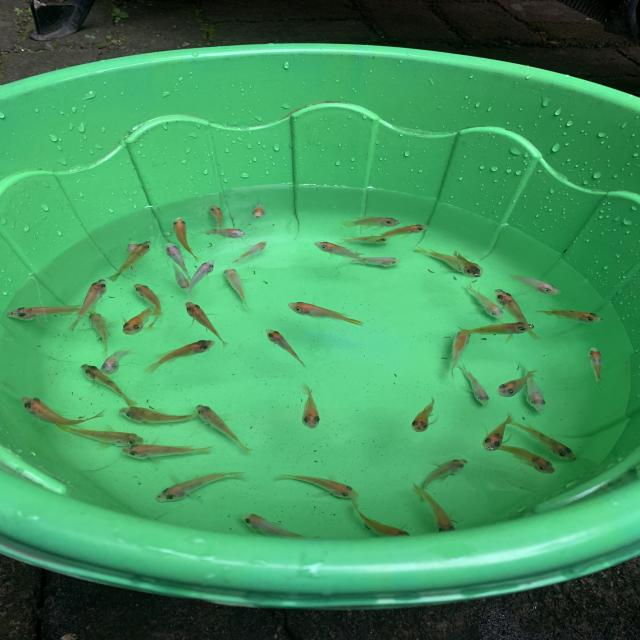nila: (152, 468, 262, 505), (192, 398, 257, 455), (408, 482, 464, 540), (511, 417, 581, 463), (492, 287, 548, 343), (272, 469, 364, 503), (235, 510, 326, 544), (415, 452, 479, 500), (18, 394, 108, 427), (53, 416, 151, 446), (144, 336, 217, 374), (350, 503, 420, 542), (182, 296, 233, 349), (84, 358, 138, 408), (494, 438, 561, 478), (111, 436, 217, 458), (106, 238, 156, 284), (285, 300, 367, 328), (70, 278, 112, 331), (479, 407, 525, 454), (528, 299, 608, 326), (452, 358, 495, 407), (112, 402, 207, 423), (264, 328, 312, 369), (520, 360, 553, 416), (454, 320, 541, 341), (462, 285, 512, 321), (411, 247, 475, 275), (581, 342, 614, 395), (446, 322, 475, 380), (222, 266, 257, 314), (294, 378, 324, 434), (404, 394, 444, 435), (364, 220, 432, 244), (175, 214, 208, 262), (496, 366, 544, 399), (85, 304, 114, 358), (506, 270, 566, 296), (132, 280, 170, 320), (118, 302, 160, 338), (5, 304, 93, 321), (313, 240, 372, 265), (452, 247, 491, 282), (183, 259, 218, 297), (340, 212, 410, 231), (100, 344, 141, 376), (228, 238, 274, 266), (341, 252, 407, 270), (160, 241, 192, 276), (197, 223, 251, 241), (333, 232, 398, 246), (167, 259, 192, 293), (207, 201, 231, 232), (127, 234, 142, 280), (250, 198, 276, 222)
